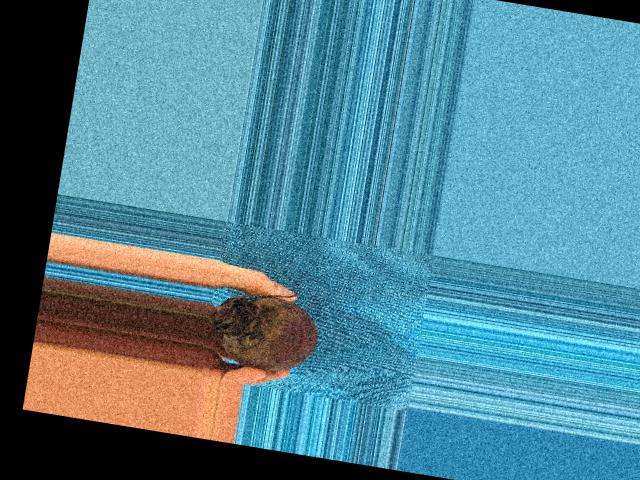beet: (204, 278, 324, 377)
